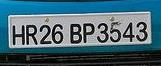2: (38, 23, 51, 43)
3: (95, 21, 109, 42), (135, 20, 148, 41)
4: (121, 20, 135, 42)
5: (108, 20, 121, 42)
6: (50, 22, 64, 44)
B: (69, 21, 82, 44)
H: (10, 23, 25, 44)
P: (81, 21, 94, 42)
R: (24, 23, 38, 45)
